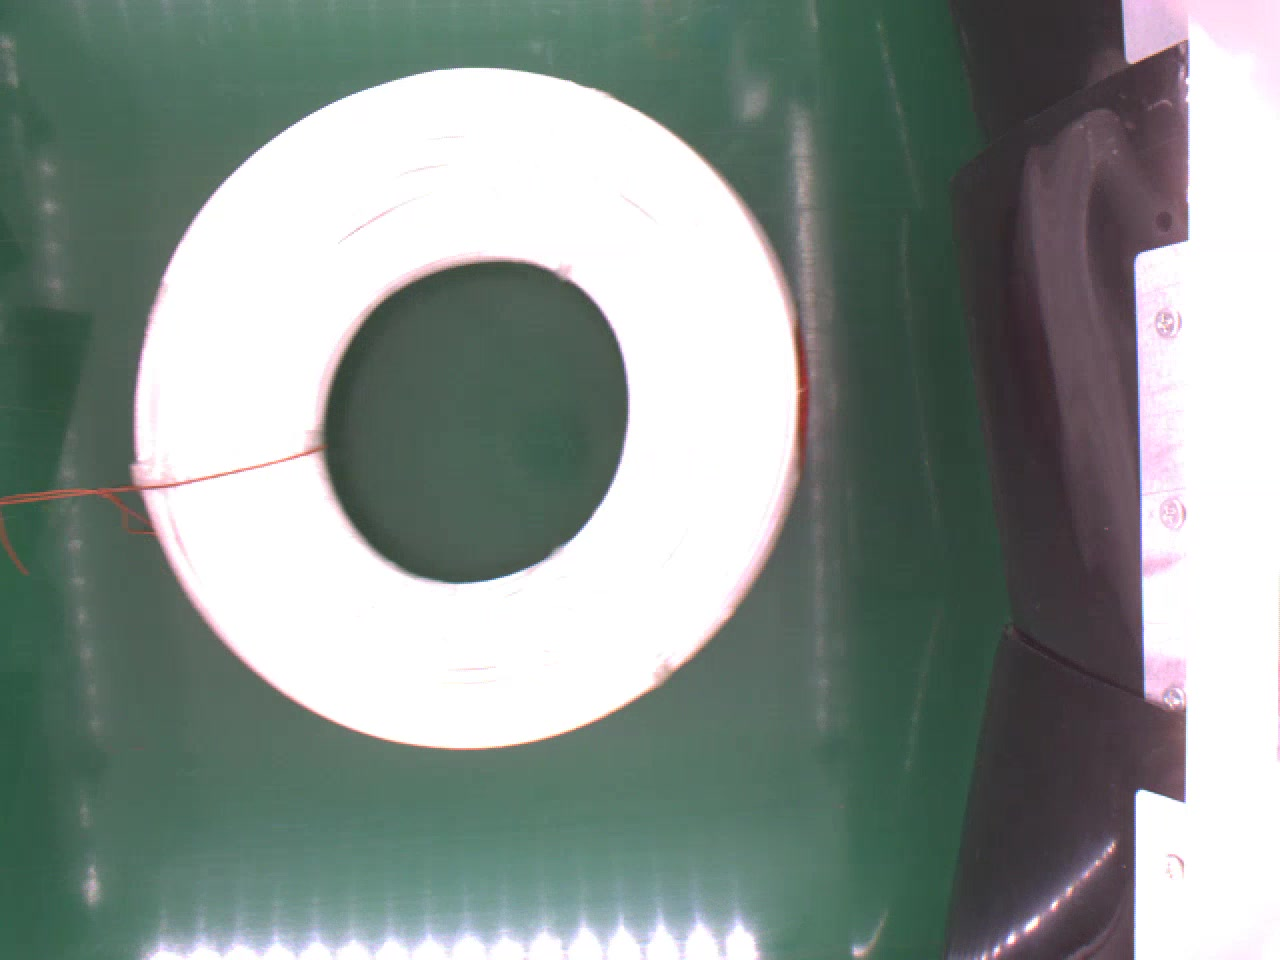white: (131, 66, 806, 749)
